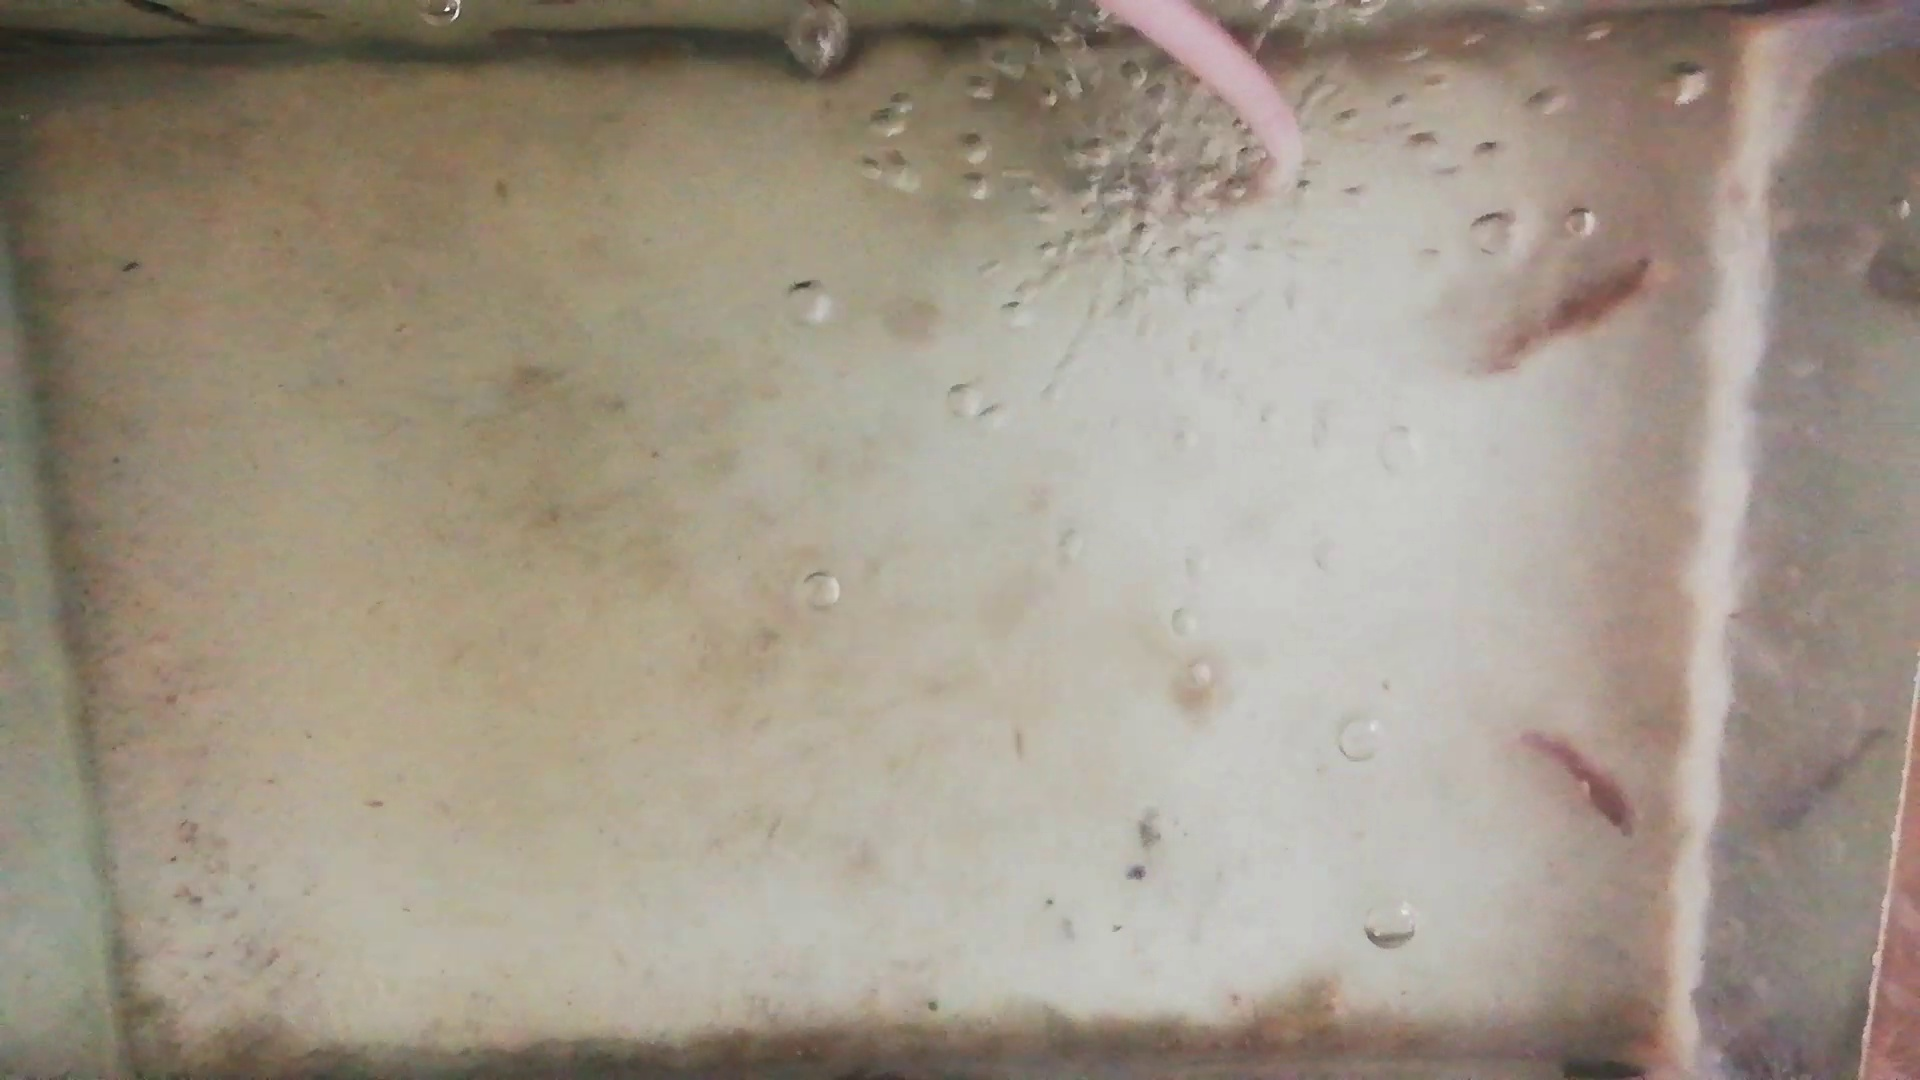fish: (1486, 257, 1660, 375), (1519, 727, 1638, 836)
